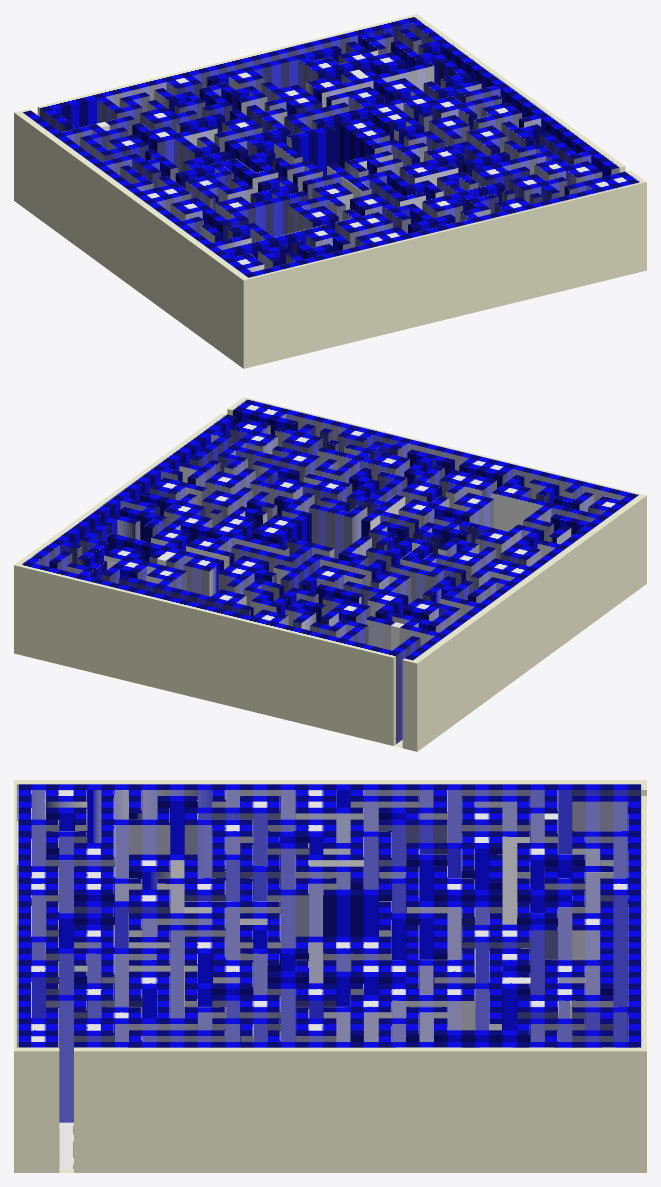
File: maze-3d.fbx
The picture shows the model from 3 angles, top to bottom: view 1: azimuth 30°, elevation 25°; view 2: azimuth 150°, elevation 25°; view 3: azimuth 270°, elevation 25°; orthographic projection. The views are drawn at different scales.
Visible parts, largest first — view 1: image; view 2: image; view 3: image.
Part boxes in pixels (x1,y1,x2,y2): image: (14,14,646,368); image: (14,397,646,751); image: (14,780,646,1172).
Bounding box in the file's own units: 4778 × 1000 × 4714.
